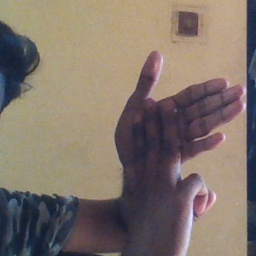M: (103, 47, 245, 233)
